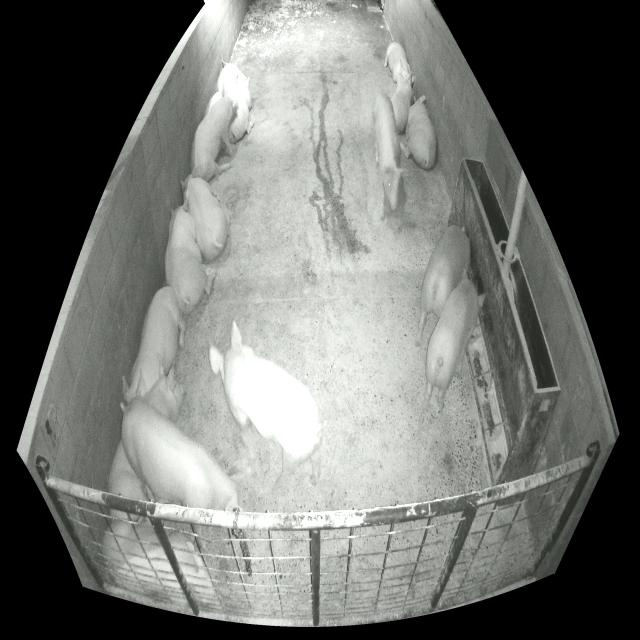pig: (209, 320, 323, 484), (120, 399, 244, 511), (109, 360, 186, 521), (103, 519, 215, 609), (424, 277, 486, 409), (122, 287, 186, 399), (416, 225, 470, 346), (191, 81, 238, 181), (165, 199, 206, 311), (180, 170, 228, 260), (372, 93, 403, 218), (217, 59, 254, 143), (400, 95, 436, 169), (391, 72, 414, 133), (384, 42, 411, 86), (205, 92, 222, 116)
